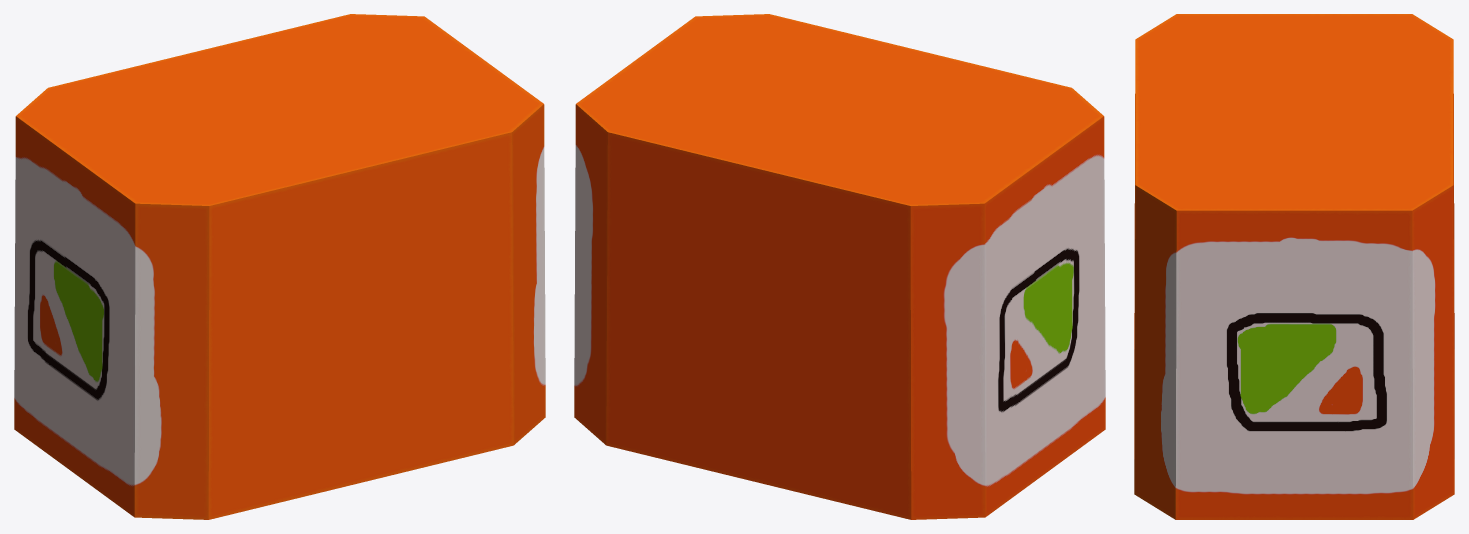
File: CaliforniaRoll.fbx
3 views of the same model, side by side, from view 1: azimuth 30°, elevation 25°; view 2: azimuth 150°, elevation 25°; view 3: azimuth 270°, elevation 25° (orthographic).
Visible parts, largest first — view 1: CaliforniaRoll; view 2: CaliforniaRoll; view 3: CaliforniaRoll.
Part boxes in pixels (x1=…): CaliforniaRoll: x1=14, y1=14, x2=545, y2=519; CaliforniaRoll: x1=574, y1=14, x2=1105, y2=519; CaliforniaRoll: x1=1134, y1=14, x2=1454, y2=519.
Size of the model in its own units: 133 by 91.01 by 96.84.
1 material, 1 textured.
